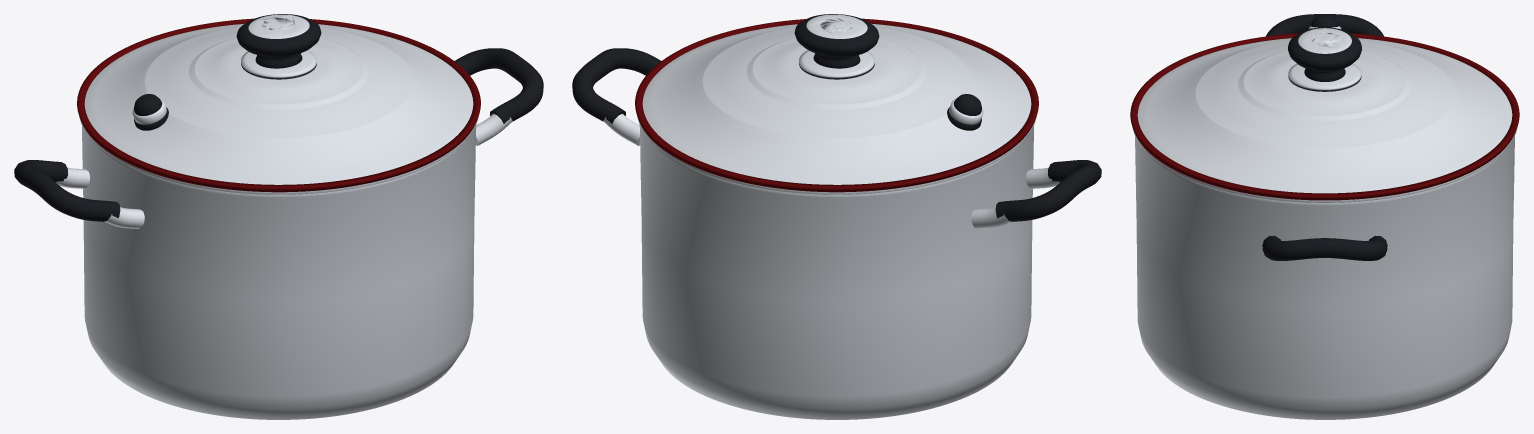
The model's file is olla-8-cuartos.glb.
3 views of the same model, side by side, from view 1: azimuth 30°, elevation 25°; view 2: azimuth 150°, elevation 25°; view 3: azimuth 270°, elevation 25° (orthographic). The views are drawn at different scales.
Parts seen in each view (by area): view 1: Cuerpo con interior, Tapa de acero con aros, Aro rojo de la tapa, Asa negra -1, Asa negra 1, NOVEL · Pomo cerrado redondeado, NOVEL · Base cromada del pomo, NOVEL · Placa superior del pomo, Soporte metálico.002, Soporte metálico, NOVEL · Emblema original en relieve bajo, Soporte metálico.001 (+1 smaller); view 2: Cuerpo con interior, Tapa de acero con aros, Aro rojo de la tapa, Asa negra -1, Asa negra 1, NOVEL · Pomo cerrado redondeado, NOVEL · Base cromada del pomo, NOVEL · Placa superior del pomo, Soporte metálico.003, Soporte metálico.001, NOVEL · Emblema original en relieve bajo, Soporte metálico (+1 smaller); view 3: Cuerpo con interior, Tapa de acero con aros, Aro rojo de la tapa, Asa negra 1, NOVEL · Pomo cerrado redondeado, Asa negra -1, NOVEL · Base cromada del pomo, NOVEL · Placa superior del pomo, NOVEL · Emblema original en relieve bajo.
Boxes of the visible parts, x1,y1,x2,y2 form: Cuerpo con interior: (82,125,476,419); Tapa de acero con aros: (79,23,478,194); Aro rojo de la tapa: (77,18,480,192); Asa negra -1: (14,160,120,221); Asa negra 1: (454,48,543,123); NOVEL · Pomo cerrado redondeado: (236,14,321,68); NOVEL · Base cromada del pomo: (241,50,316,77); NOVEL · Placa superior del pomo: (248,14,309,38); Soporte metálico.002: (476,114,512,145); Soporte metálico: (104,207,144,228); NOVEL · Emblema original en relieve bajo: (256,15,297,35); Soporte metálico.001: (56,167,89,188); Cuerpo con interior: (639,125,1033,419); Tapa de acero con aros: (637,23,1036,194); Aro rojo de la tapa: (635,18,1038,192); Asa negra -1: (995,160,1101,221); Asa negra 1: (572,48,661,123); NOVEL · Pomo cerrado redondeado: (794,14,879,68); NOVEL · Base cromada del pomo: (799,50,874,77); NOVEL · Placa superior del pomo: (806,14,867,38); Soporte metálico.003: (603,114,639,145); Soporte metálico.001: (971,207,1011,228); NOVEL · Emblema original en relieve bajo: (810,16,863,35); Soporte metálico: (1026,167,1059,188); Cuerpo con interior: (1135,136,1514,419); Tapa de acero con aros: (1132,38,1517,202); Aro rojo de la tapa: (1130,33,1519,200); Asa negra 1: (1262,235,1387,260); NOVEL · Pomo cerrado redondeado: (1288,27,1361,81); Asa negra -1: (1266,14,1383,36); NOVEL · Base cromada del pomo: (1288,63,1361,90); NOVEL · Placa superior del pomo: (1298,28,1351,53); NOVEL · Emblema original en relieve bajo: (1306,30,1343,48).
Bounding box in the file's own units: 0.3761 × 0.2362 × 0.266.
